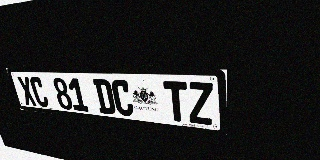1: (66, 78, 89, 112)
8: (51, 78, 74, 110)
C: (110, 79, 135, 117), (28, 77, 50, 108)
D: (92, 79, 116, 115)
T: (163, 81, 189, 123)
X: (16, 76, 37, 106)
Z: (187, 82, 213, 125)
